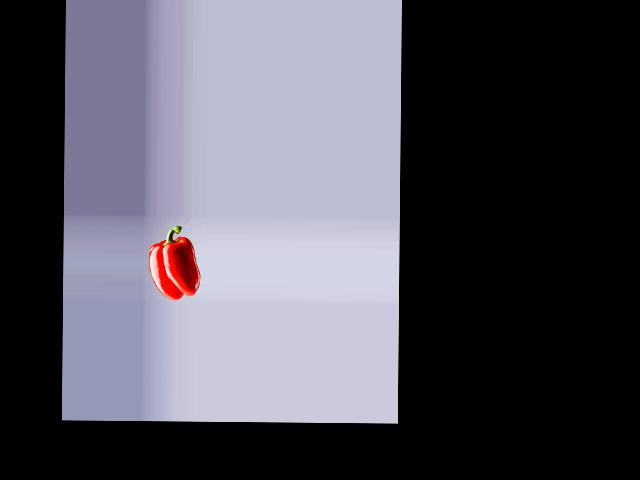bell_pepper: (146, 224, 201, 297)
